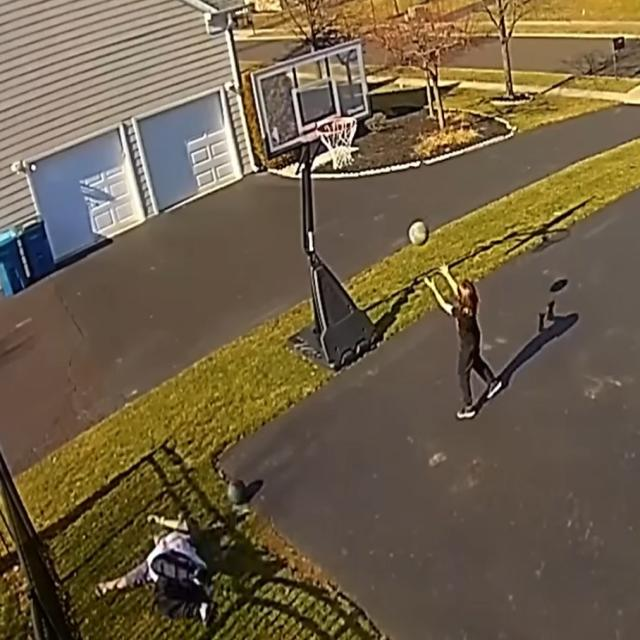fallen: (97, 514, 213, 626)
standing: (425, 265, 502, 419)
